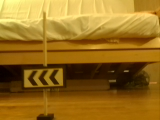left: (22, 67, 66, 87)
